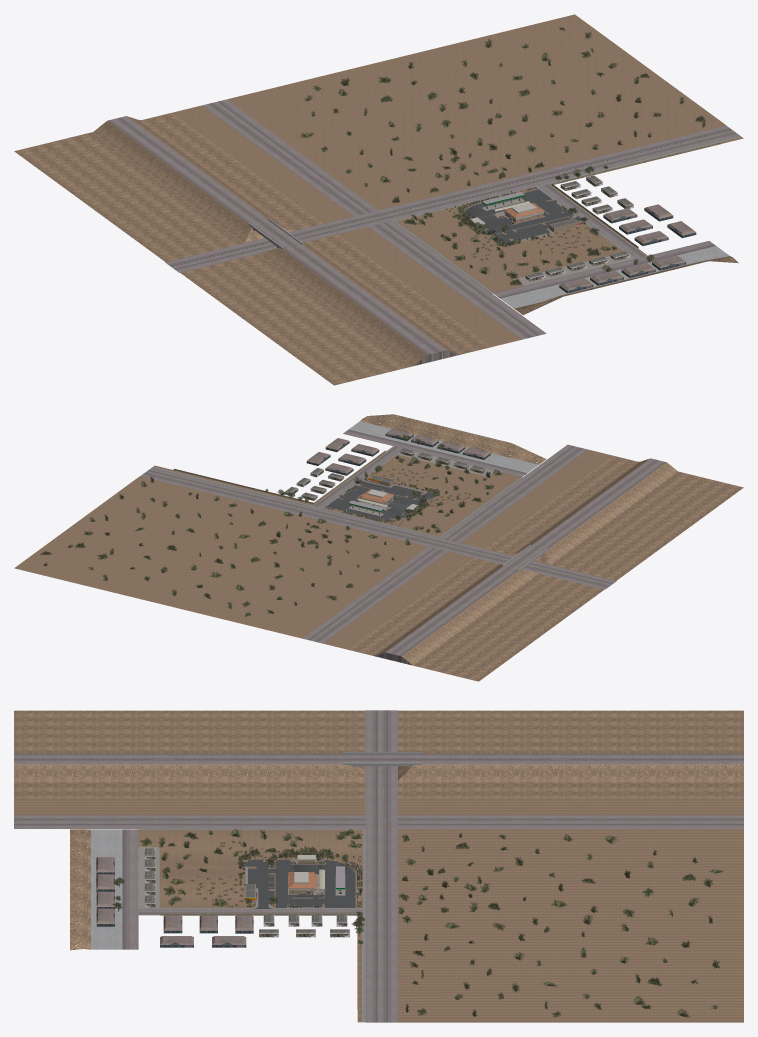
File: Quequis_House.glb
The picture shows the model from 3 angles, top to bottom: view 1: azimuth 30°, elevation 25°; view 2: azimuth 150°, elevation 25°; view 3: azimuth 270°, elevation 25°; orthographic projection. The views are drawn at different scales.
Visible parts, largest first — view 1: Terrain.001, Terrain, Road.001, Road, Parking, Bridge, brick_modern; view 2: Terrain.001, Terrain, Road, Road.001, Parking, Bridge, brick_modern; view 3: Terrain.001, Terrain, Road.001, Road, Parking, Bridge, building, brick_modern.
Part boxes in pixels (x1,y1,x2,y2): Terrain.001: [14, 14, 726, 385]; Terrain: [393, 136, 741, 293]; Road.001: [165, 125, 739, 272]; Road: [493, 137, 743, 315]; Parking: [464, 189, 585, 244]; Bridge: [248, 218, 302, 249]; brick_modern: [551, 142, 721, 248]; Terrain.001: [14, 444, 743, 681]; Terrain: [152, 451, 522, 537]; Road: [153, 414, 546, 507]; Road.001: [140, 468, 616, 589]; Parking: [326, 479, 436, 519]; Bridge: [502, 545, 547, 570]; brick_modern: [173, 450, 385, 504]; Terrain.001: [14, 710, 743, 1022]; Terrain: [138, 828, 365, 1022]; Road.001: [365, 710, 397, 1022]; Road: [70, 829, 362, 1022]; Parking: [242, 859, 355, 908]; Bridge: [343, 752, 421, 767]; building: [288, 872, 316, 894]; brick_modern: [160, 913, 357, 1009].
Bounding box in the file's own units: 694 × 16.09 × 686.
Materials: 127 (119 with a texture image).
